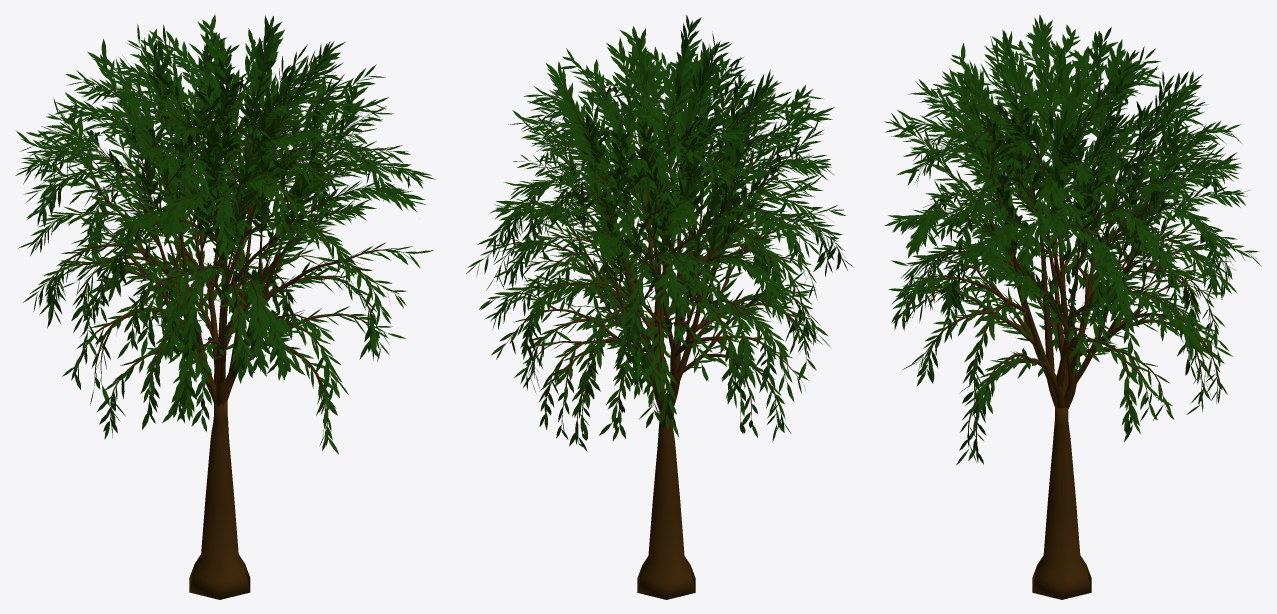
The model's file is tree-2.glb.
3 views of the same model, side by side, from view 1: azimuth 30°, elevation 25°; view 2: azimuth 150°, elevation 25°; view 3: azimuth 270°, elevation 25° (orthographic). The views are drawn at different scales.
Visible parts, largest first — view 1: leaves; view 2: leaves; view 3: leaves.
Part boxes in pixels (x1=…): leaves: x1=15, y1=14, x2=435, y2=599; leaves: x1=466, y1=15, x2=853, y2=599; leaves: x1=884, y1=14, x2=1261, y2=599.
Bounding box in the file's own units: 1.97 × 3.07 × 1.92.
